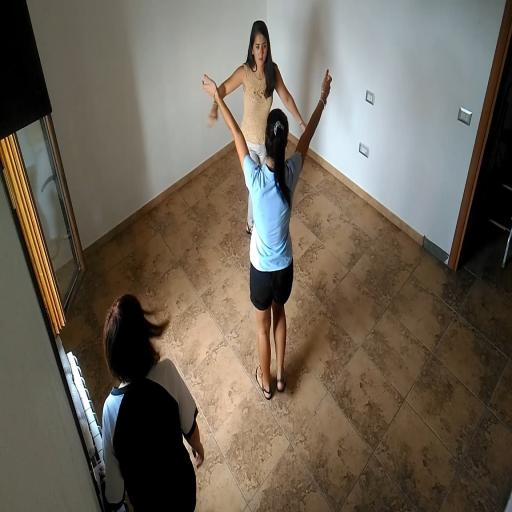nao-violencia: (194, 14, 341, 408)
